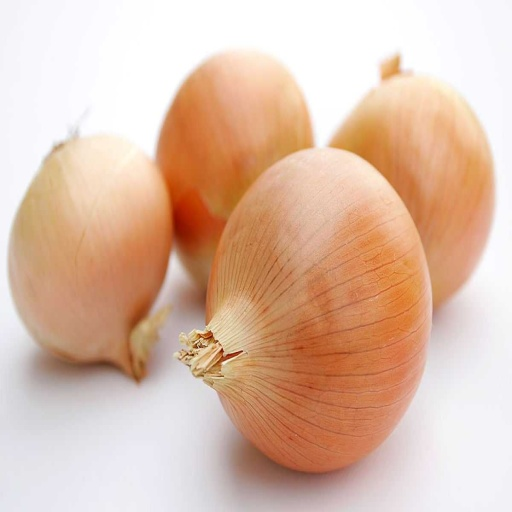Zwiebel: (174, 147, 433, 474)
